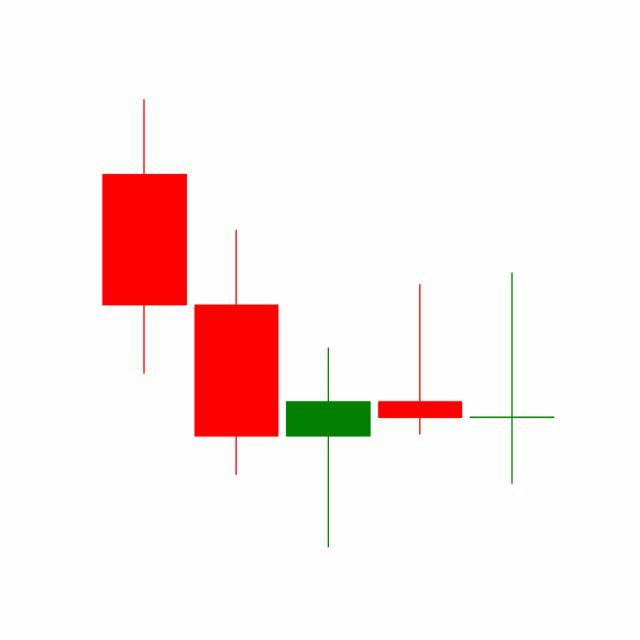Spinning Top: (466, 271, 559, 487)
